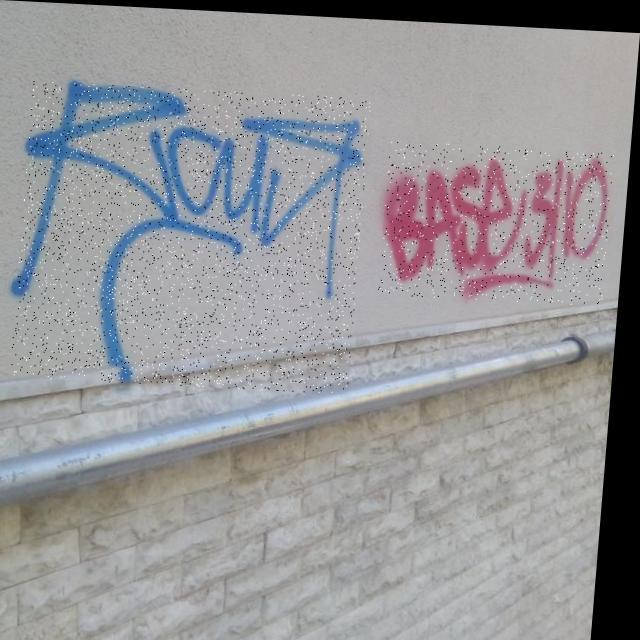-: (16, 80, 373, 390), (382, 136, 616, 300)
